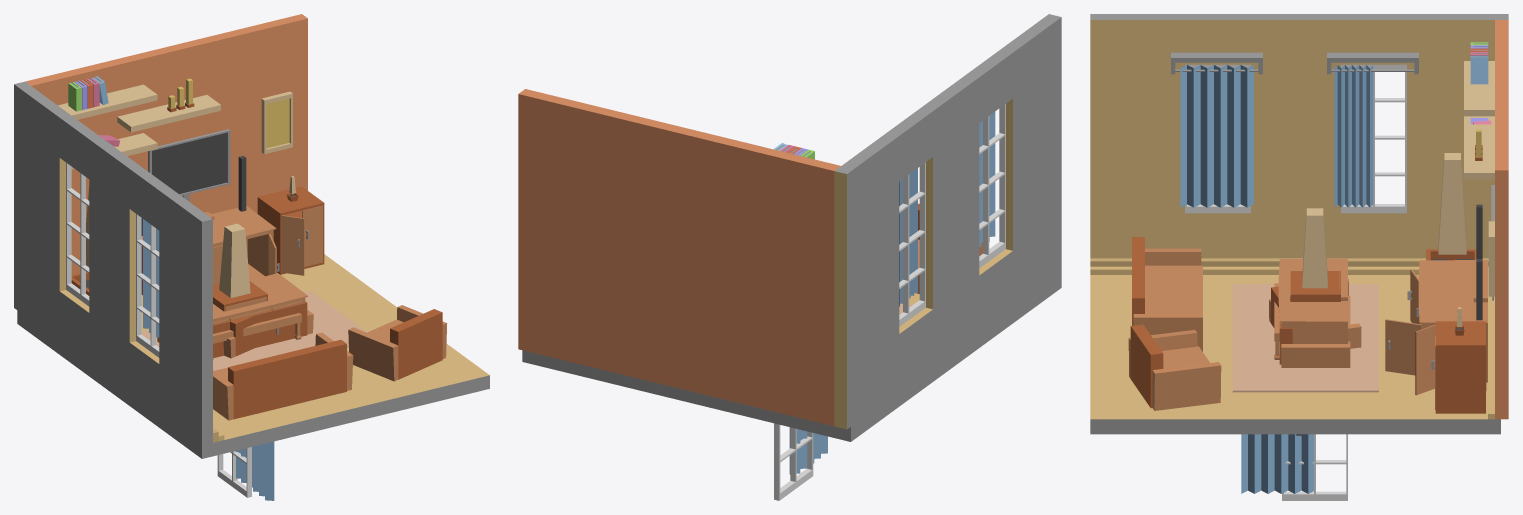
File: livingroom.glb
The picture shows the model from 3 angles, left to right: view 1: azimuth 30°, elevation 25°; view 2: azimuth 150°, elevation 25°; view 3: azimuth 270°, elevation 25°; orthographic projection. The views are drawn at different scales.
Visible parts, largest first — view 1: wall.001, sofa.001, sofa2.001, TV.001, carpet.001, TV_bottom.001, bookshelf.002, cabinet.001, window.001, window.002, ornamental_plant, frame.001 (+13 smaller); view 2: wall.001, window.001, window.002, window, curtain.002, curtain.001, curtain; view 3: wall.001, curtain.001, carpet.001, curtain.002, sofa2.001, sofa.001, cabinet.001, curtain, wall_corner.001, TV_bottom.001, TV_bottom, ornamental_plant.001 (+16 smaller).
Boxes of the visible parts, x1,y1,x2,y2 form: wall.001: (14, 14, 489, 458); sofa.001: (213, 332, 353, 420); sofa2.001: (348, 305, 447, 381); TV.001: (141, 129, 246, 235); carpet.001: (141, 291, 366, 370); TV_bottom.001: (141, 206, 276, 295); bookshelf.002: (58, 84, 157, 169); cabinet.001: (257, 186, 324, 274); window.001: (66, 162, 89, 306); window.002: (136, 214, 159, 357); ornamental_plant: (219, 223, 250, 297); frame.001: (261, 91, 292, 154); wall.001: (518, 14, 1061, 441); window.001: (899, 162, 925, 326); window.002: (979, 104, 1005, 267); window: (774, 423, 813, 500); curtain.002: (899, 168, 917, 306); curtain.001: (979, 112, 995, 246); curtain: (789, 427, 827, 474); wall.001: (1090, 14, 1508, 434); curtain.001: (1180, 65, 1253, 207); carpet.001: (1232, 284, 1378, 392); curtain.002: (1327, 52, 1418, 207); sofa2.001: (1128, 324, 1221, 410); sofa.001: (1132, 237, 1202, 351); cabinet.001: (1435, 321, 1486, 413); curtain: (1241, 434, 1313, 493); wall_corner.001: (1090, 258, 1494, 419); TV_bottom.001: (1418, 260, 1487, 382); TV_bottom: (1278, 258, 1347, 343); ornamental_plant.001: (1426, 153, 1476, 260).
Size of the model in its own units: 11.21 by 13.81 by 12.68.
